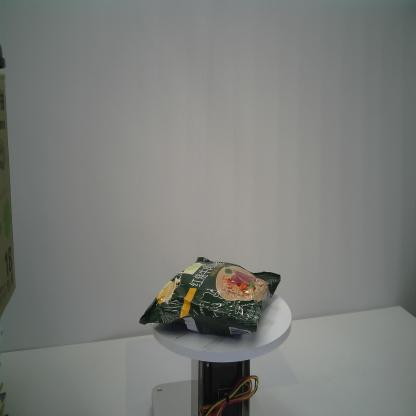Instant Noodles: (139, 256, 281, 337)
